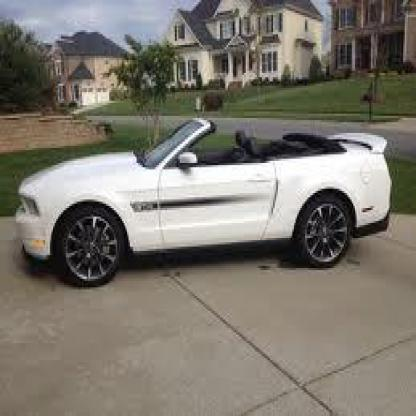Vehicle: (13, 113, 397, 294)
